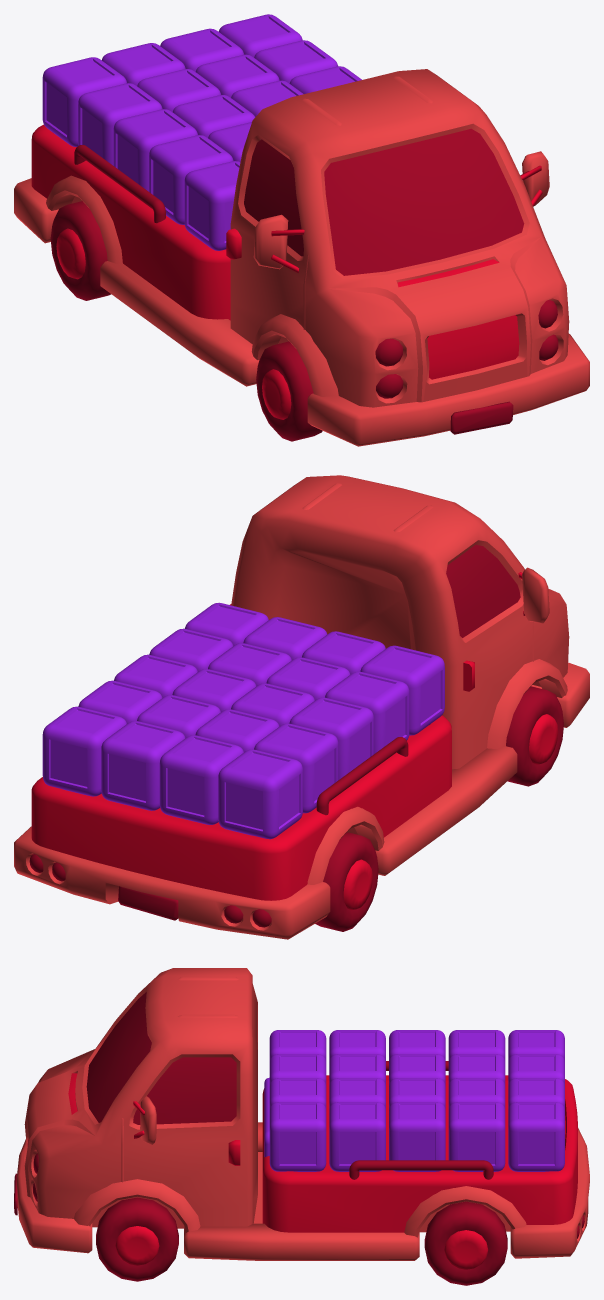
The model's file is Red-Truck.fbx.
The picture shows the model from 3 angles, top to bottom: view 1: azimuth 30°, elevation 25°; view 2: azimuth 150°, elevation 25°; view 3: azimuth 270°, elevation 25°; orthographic projection. The views are drawn at different scales.
Parts seen in each view (by area): view 1: Truck, Till, Wheel_2A_R.R, Box.002, Box.018, Box.017, Box.009, Box.010, Box.005, Box.006, Box.007, Box.003 (+7 smaller); view 2: Truck, Till, Wheel_2A_R.R, Box.002, Box.003, Box.005, Box.004, Box.018, Box.009, Box.017, Box.010, Box.007 (+12 smaller); view 3: Truck, Till, Wheel_2A_R.R, Box.021, Box.005, Box.014, Box.006, Box.013, Handle_02, Box.007, Box.008, Box.009 (+13 smaller).
Boxes of the visible parts, x1,y1,x2,y2 form: Truck: (14,69,589,446); Till: (31,124,230,320); Wheel_2A_R.R: (50,201,322,441); Box.002: (42,57,126,146); Box.018: (184,161,240,250); Box.017: (149,135,233,224); Box.009: (78,83,162,165); Box.010: (113,109,197,191); Box.005: (218,14,302,57); Box.006: (254,40,337,83); Box.007: (195,54,279,97); Box.003: (102,43,185,85); Truck: (14,475,589,939); Till: (31,715,451,900); Wheel_2A_R.R: (315,686,563,931); Box.002: (218,749,302,839); Box.003: (159,735,243,824); Box.005: (42,706,126,796); Box.004: (101,721,185,810); Box.018: (360,645,444,735); Box.009: (254,723,338,813); Box.017: (325,671,409,753); Box.010: (289,697,373,779); Box.007: (137,695,220,737); Truck: (14,968,589,1260); Till: (262,1075,577,1232); Wheel_2A_R.R: (96,1197,507,1285); Box.021: (269,1102,326,1171); Box.005: (508,1102,564,1171); Box.014: (329,1102,385,1171); Box.006: (448,1102,505,1171); Box.013: (389,1102,445,1171); Handle_02: (349,1160,493,1179); Box.007: (448,1078,505,1109); Box.008: (448,1054,505,1085); Box.009: (448,1030,505,1061).
Size of the model in its own units: 2.76 by 2.48 by 5.56.
